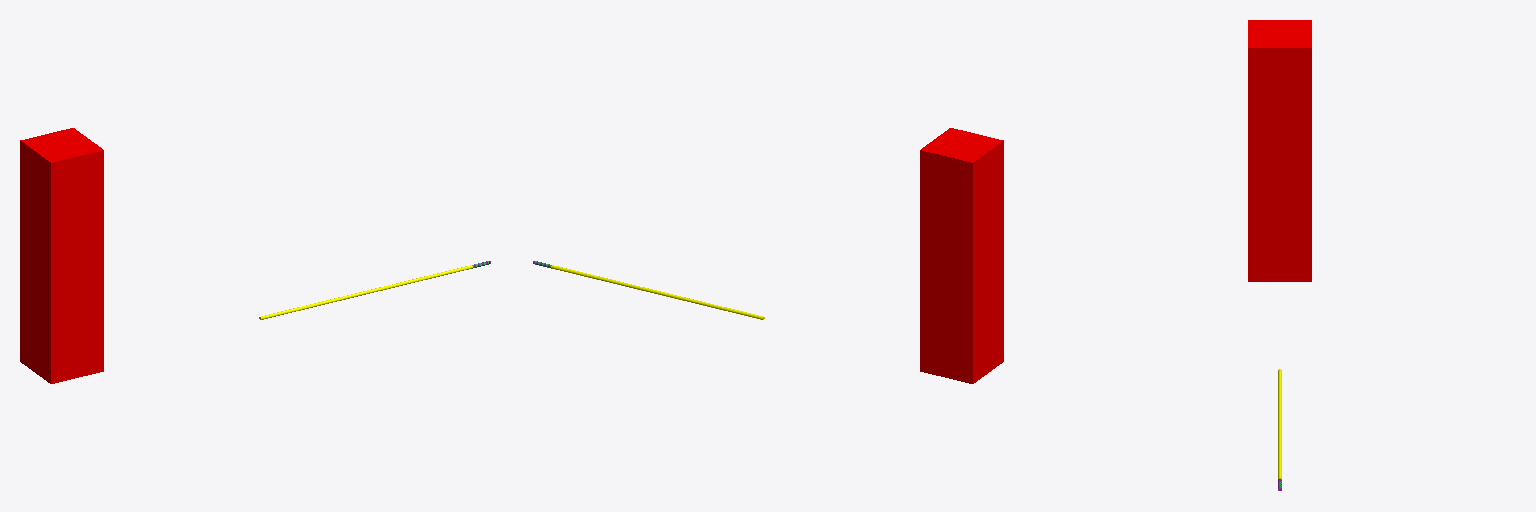
The robot description file, URDF, robot "surgical_robot_control":
<?xml version="1.0" ?>
<!-- =================================================================================== -->
<!-- |    This document was autogenerated by xacro from surgical_tool.urdf.xacro       | -->
<!-- |    EDITING THIS FILE BY HAND IS NOT RECOMMENDED                                 | -->
<!-- =================================================================================== -->
<robot name="surgical_robot_control">
  <!-- <xacro:include filename="my_materials.xacro"/> -->
  <!-- <xacro:include filename="./colors.urdf.xacro" /> -->
  <link name="base">
    <inertial>
      <origin rpy="0.0 0.0 0.0" xyz="0.0 0.0 0.1"/>
      <mass value="0.1"/>
      <inertia ixx="1.0" ixy="0.0" ixz="0.0" iyy="1.0" iyz="0.0" izz="1.0"/>
    </inertial>
    <visual>
      <origin rpy="0.0 0.0 0.0" xyz="0.0 0.0 0.1"/>
      <geometry>
        <box size="0.05 0.05 0.2"/>
      </geometry>
      <material name="base">
        <color rgba="1.0 0.0 0.0 1.0"/>
      </material>
    </visual>
    <collision>
      <origin rpy="0.0 0.0 0.0" xyz="0.0 0.0 0.1"/>
      <geometry>
        <box size="0.05 0.05 0.2"/>
      </geometry>
    </collision>
  </link>
  <joint name="base_actuator" type="fixed">
    <origin rpy="0.0 0.0 0.0" xyz="0.0 0.0 0.0"/>
    <parent link="base"/>
    <child link="actuator"/>
    <axis xyz="1.0 0.0 0.0"/>
    <limit effort="30" lower="-3.14" upper="3.14" velocity="1"/>
  </joint>
  <link name="actuator">
    <inertial>
      <origin rpy="0.0 0.0 0.0" xyz="0.0 0.0 0.0"/>
      <mesh filename="package://surgical_robot_control/meshes/ActuatorModule_Blender_zero.dae"/>
      <mass value="0.1"/>
      <inertia ixx="4.166666666666667e-05" ixy="0.0" ixz="0.0" iyy="4.166666666666667e-05" iyz="0.0" izz="0.0006666666666666668"/>
    </inertial>
    <visual>
      <origin rpy="0.0 0.0 0.0" xyz="0.0 0.0 0.0"/>
      <geometry>
        <mesh filename="package://surgical_robot_control/meshes/ActuatorModule_Blender_zero.dae"/>
      </geometry>
      <!-- <material name="actuator">
                <color rgba="1.0 1.0 0.0 0.4"/>
            </material> -->
    </visual>
    <collision>
      <origin rpy="0.0 0.0 0.0" xyz="0.0 0.0 0.0"/>
      <geometry>
        <mesh filename="package://surgical_robot_control/meshes/ActuatorModule_Blender_zero.dae"/>
      </geometry>
    </collision>
  </link>
  <joint name="actuator_shaft" type="fixed">
    <origin rpy="0.0 0.0 0.0" xyz="0.187 0.0 0.0"/>
    <parent link="actuator"/>
    <child link="shaft"/>
  </joint>
  <link name="shaft">
    <inertial>
      <origin rpy="0.0 2.0 0.0" xyz="0.25 0.0 0.0"/>
      <mass value="0.1"/>
      <inertia ixx="4.166666666666667e-05" ixy="0.0" ixz="0.0" iyy="4.166666666666667e-05" iyz="0.0" izz="0.0006666666666666668"/>
    </inertial>
    <visual>
      <origin rpy="0.0 1.5708 0.0" xyz="0.1 0.0 0.0"/>
      <geometry>
        <cylinder length="0.2" radius="0.0015"/>
      </geometry>
      <material name="shaft">
        <color rgba="1.0 1.0 0.0 0.3"/>
      </material>
    </visual>
    <collision>
      <origin rpy="0.0 0.0 0.0" xyz="0.1 0.0 0.0"/>
      <geometry>
        <cylinder length="0.2" radius="0.0015"/>
      </geometry>
    </collision>
  </link>
  <joint name="tilt_1" type="revolute">
    <origin rpy="0.0 0.0 0.0" xyz="0.2 0.0 0.0"/>
    <parent link="shaft"/>
    <child link="seg_tilt_1"/>
    <axis xyz="0.0 1.0 0.0"/>
    <limit effort="30.0" lower="-0.7854" upper="0.7854" velocity="3.141"/>
  </joint>
  <link name="seg_tilt_1">
    <visual>
      <origin rpy="0.0 0.0 0.0" xyz="0.0 0.0 0.0"/>
      <geometry>
        <mesh filename="package://surgical_robot_control/meshes/continuum_segment_Blender_zero_lightgreen.dae" scale="0.001 0.001 0.001"/>
      </geometry>
    </visual>
  </link>
  <joint name="pan_1" type="revolute">
    <origin rpy="0.0 0.0 0.0" xyz="0.0018 0.0 0.0"/>
    <parent link="seg_tilt_1"/>
    <child link="seg_pan_1"/>
    <axis xyz="0.0 0.0 1.0"/>
    <limit effort="30.0" lower="-0.7854" upper="0.7854" velocity="3.141"/>
  </joint>
  <link name="seg_pan_1">
    <visual>
      <origin rpy="1.5708 0.0 0.0" xyz="0.0 0.0 0.0"/>
      <geometry>
        <mesh filename="package://surgical_robot_control/meshes/continuum_segment_Blender_zero_violet.dae" scale="0.001 0.001 0.001"/>
      </geometry>
    </visual>
  </link>
  <joint name="tilt_2" type="revolute">
    <origin rpy="0.0 0.0 0.0" xyz="0.0018 0.0 0.0"/>
    <parent link="seg_pan_1"/>
    <child link="seg_tilt_2"/>
    <axis xyz="0.0 1.0 0.0"/>
    <limit effort="30.0" lower="-0.7854" upper="0.7854" velocity="3.141"/>
  </joint>
  <link name="seg_tilt_2">
    <visual>
      <origin rpy="0.0 0.0 0.0" xyz="0.0 0.0 0.0"/>
      <geometry>
        <mesh filename="package://surgical_robot_control/meshes/continuum_segment_Blender_zero_lightgreen.dae" scale="0.001 0.001 0.001"/>
      </geometry>
    </visual>
  </link>
  <joint name="pan_2" type="revolute">
    <origin rpy="0.0 0.0 0.0" xyz="0.0018 0.0 0.0"/>
    <parent link="seg_tilt_2"/>
    <child link="seg_pan_2"/>
    <axis xyz="0.0 0.0 1.0"/>
    <limit effort="30.0" lower="-0.7854" upper="0.7854" velocity="3.141"/>
  </joint>
  <link name="seg_pan_2">
    <visual>
      <origin rpy="1.5708 0.0 0.0" xyz="0.0 0.0 0.0"/>
      <geometry>
        <mesh filename="package://surgical_robot_control/meshes/continuum_segment_Blender_zero_violet.dae" scale="0.001 0.001 0.001"/>
      </geometry>
    </visual>
  </link>
  <joint name="tilt_3" type="revolute">
    <origin rpy="0.0 0.0 0.0" xyz="0.0018 0.0 0.0"/>
    <parent link="seg_pan_2"/>
    <child link="seg_tilt_3"/>
    <axis xyz="0.0 1.0 0.0"/>
    <limit effort="30.0" lower="-0.7854" upper="0.7854" velocity="3.141"/>
  </joint>
  <link name="seg_tilt_3">
    <visual>
      <origin rpy="0.0 0.0 0.0" xyz="0.0 0.0 0.0"/>
      <geometry>
        <mesh filename="package://surgical_robot_control/meshes/continuum_segment_Blender_zero_lightgreen.dae" scale="0.001 0.001 0.001"/>
      </geometry>
    </visual>
  </link>
  <joint name="pan_3" type="revolute">
    <origin rpy="0.0 0.0 0.0" xyz="0.0018 0.0 0.0"/>
    <parent link="seg_tilt_3"/>
    <child link="seg_pan_3"/>
    <axis xyz="0.0 0.0 1.0"/>
    <limit effort="30.0" lower="-0.7854" upper="0.7854" velocity="3.141"/>
  </joint>
  <link name="seg_pan_3">
    <visual>
      <origin rpy="1.5708 0.0 0.0" xyz="0.0 0.0 0.0"/>
      <geometry>
        <mesh filename="package://surgical_robot_control/meshes/continuum_segment_Blender_zero_violet.dae" scale="0.001 0.001 0.001"/>
      </geometry>
    </visual>
  </link>
  <joint name="tilt_4" type="revolute">
    <origin rpy="0.0 0.0 0.0" xyz="0.0018 0.0 0.0"/>
    <parent link="seg_pan_3"/>
    <child link="seg_tilt_4"/>
    <axis xyz="0.0 1.0 0.0"/>
    <limit effort="30.0" lower="-0.7854" upper="0.7854" velocity="3.141"/>
  </joint>
  <link name="seg_tilt_4">
    <visual>
      <origin rpy="0.0 0.0 0.0" xyz="0.0 0.0 0.0"/>
      <geometry>
        <mesh filename="package://surgical_robot_control/meshes/continuum_segment_Blender_zero_lightgreen.dae" scale="0.001 0.001 0.001"/>
      </geometry>
    </visual>
  </link>
  <joint name="pan_4" type="revolute">
    <origin rpy="0.0 0.0 0.0" xyz="0.0018 0.0 0.0"/>
    <parent link="seg_tilt_4"/>
    <child link="seg_pan_4"/>
    <axis xyz="0.0 0.0 1.0"/>
    <limit effort="30.0" lower="-0.7854" upper="0.7854" velocity="3.141"/>
  </joint>
  <link name="seg_pan_4">
    <visual>
      <origin rpy="1.5708 0.0 0.0" xyz="0.0 0.0 0.0"/>
      <geometry>
        <mesh filename="package://surgical_robot_control/meshes/continuum_segment_Blender_zero_violet.dae" scale="0.001 0.001 0.001"/>
      </geometry>
    </visual>
  </link>
  <joint name="tilt_5" type="revolute">
    <origin rpy="0.0 0.0 0.0" xyz="0.0018 0.0 0.0"/>
    <parent link="seg_pan_4"/>
    <child link="seg_tilt_5"/>
    <axis xyz="0.0 1.0 0.0"/>
    <limit effort="30.0" lower="-0.7854" upper="0.7854" velocity="3.141"/>
  </joint>
  <link name="seg_tilt_5">
    <visual>
      <origin rpy="0.0 0.0 0.0" xyz="0.0 0.0 0.0"/>
      <geometry>
        <mesh filename="package://surgical_robot_control/meshes/continuum_segment_Blender_zero_lightgreen.dae" scale="0.001 0.001 0.001"/>
      </geometry>
    </visual>
  </link>
  <joint name="pan_5" type="revolute">
    <origin rpy="0.0 0.0 0.0" xyz="0.0018 0.0 0.0"/>
    <parent link="seg_tilt_5"/>
    <child link="seg_pan_5"/>
    <axis xyz="0.0 0.0 1.0"/>
    <limit effort="30.0" lower="-0.7854" upper="0.7854" velocity="3.141"/>
  </joint>
  <link name="seg_pan_5">
    <visual>
      <origin rpy="1.5708 0.0 0.0" xyz="0.0 0.0 0.0"/>
      <geometry>
        <mesh filename="package://surgical_robot_control/meshes/continuum_segment_Blender_zero_violet.dae" scale="0.001 0.001 0.001"/>
      </geometry>
    </visual>
  </link>
</robot>

--- Facts derived from the render (not from the file) ---
3 views of the same robot in one strip: view 1: azimuth 30°, elevation 25°; view 2: azimuth 150°, elevation 25°; view 3: azimuth 270°, elevation 25° (orthographic).
Robot: surgical_robot_control — 13 links, 12 joints (10 revolute, 2 fixed); root link base; default pose: all joints at 0.
Links seen in each view (by area): view 1: base, shaft; view 2: base, shaft; view 3: base.
Link boxes in pixels (x1=…): base: x1=20, y1=128, x2=103, y2=383; shaft: x1=259, y1=265, x2=472, y2=319; base: x1=920, y1=128, x2=1003, y2=383; shaft: x1=551, y1=265, x2=764, y2=319; base: x1=1248, y1=20, x2=1311, y2=281.
Size in the robot's own frame: 0.4297 by 0.05 by 0.2015 metres.
Meshes: 3 distinct files referenced, 10 mesh visuals loaded (2 Collada DAE); not drawn: 1 (reference not matched to a file when rendering).